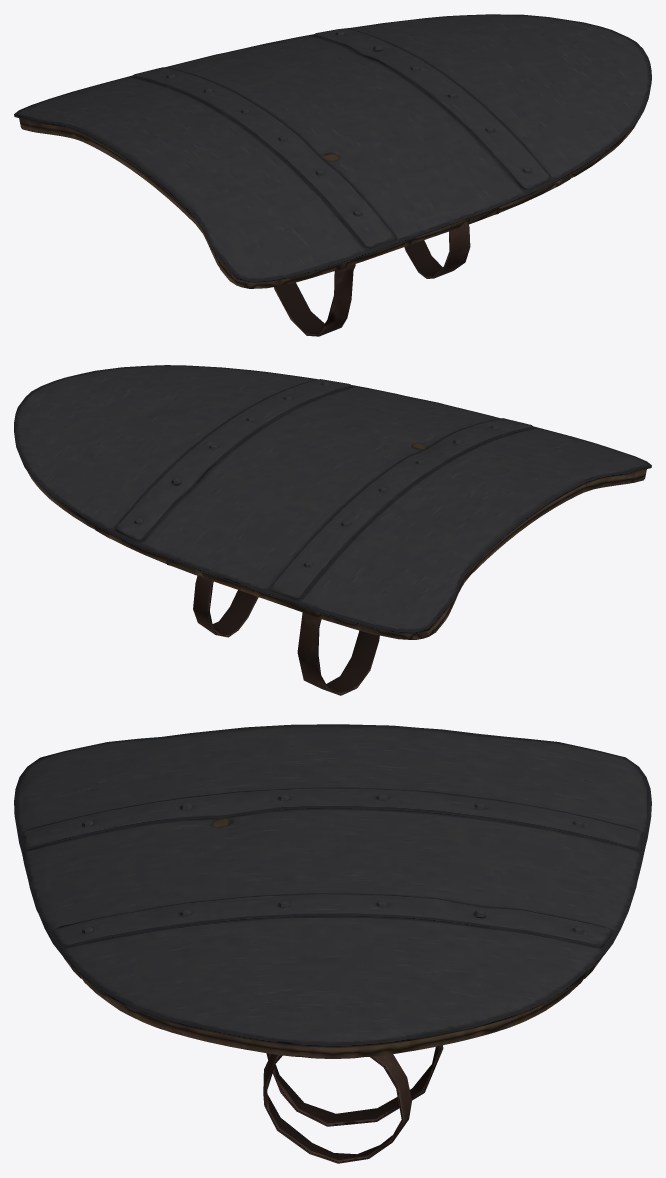
The model's file is shield_ashforged.glb.
3 views of the same model, one above another, from view 1: azimuth 30°, elevation 25°; view 2: azimuth 150°, elevation 25°; view 3: azimuth 270°, elevation 25° (orthographic). The views are drawn at different scales.
Visible parts, largest first — view 1: shield; view 2: shield; view 3: shield.
Part boxes in pixels (box(x1,y1,x2,y2)): shield: box(14, 14, 651, 336); shield: box(14, 365, 651, 695); shield: box(14, 724, 651, 1163).
Size of the model in its own units: 0.632 by 0.2676 by 0.5214.
1 material, 1 textured.
